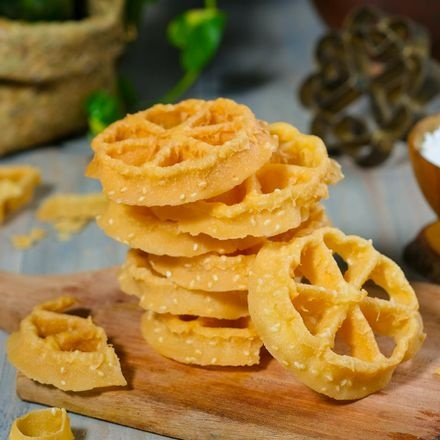kembang_goyang: (260, 226, 395, 398)
